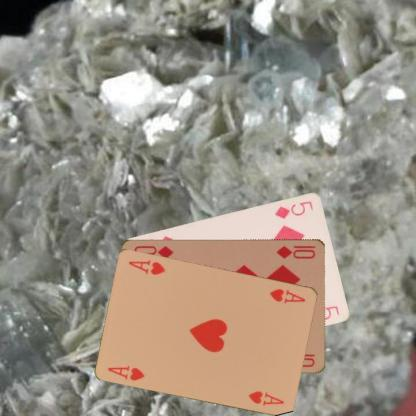10d: (274, 242, 316, 260)
5d: (272, 198, 315, 220)
Ah: (105, 363, 146, 382), (267, 286, 307, 304)
